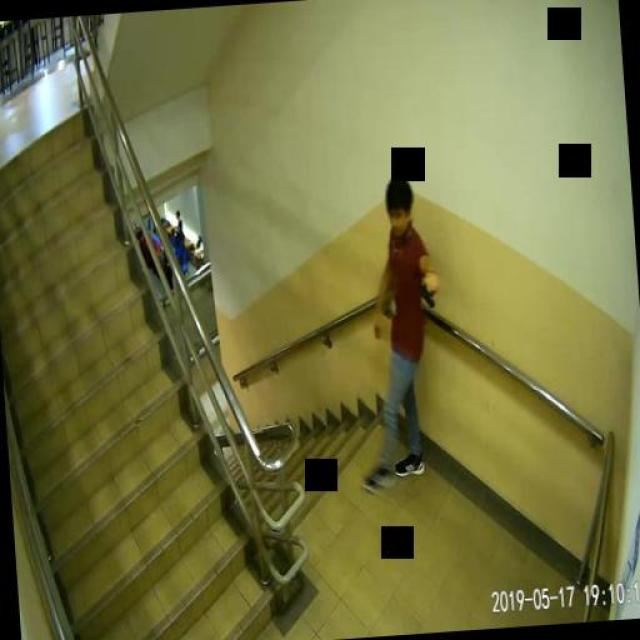gun: (416, 278, 439, 308)
